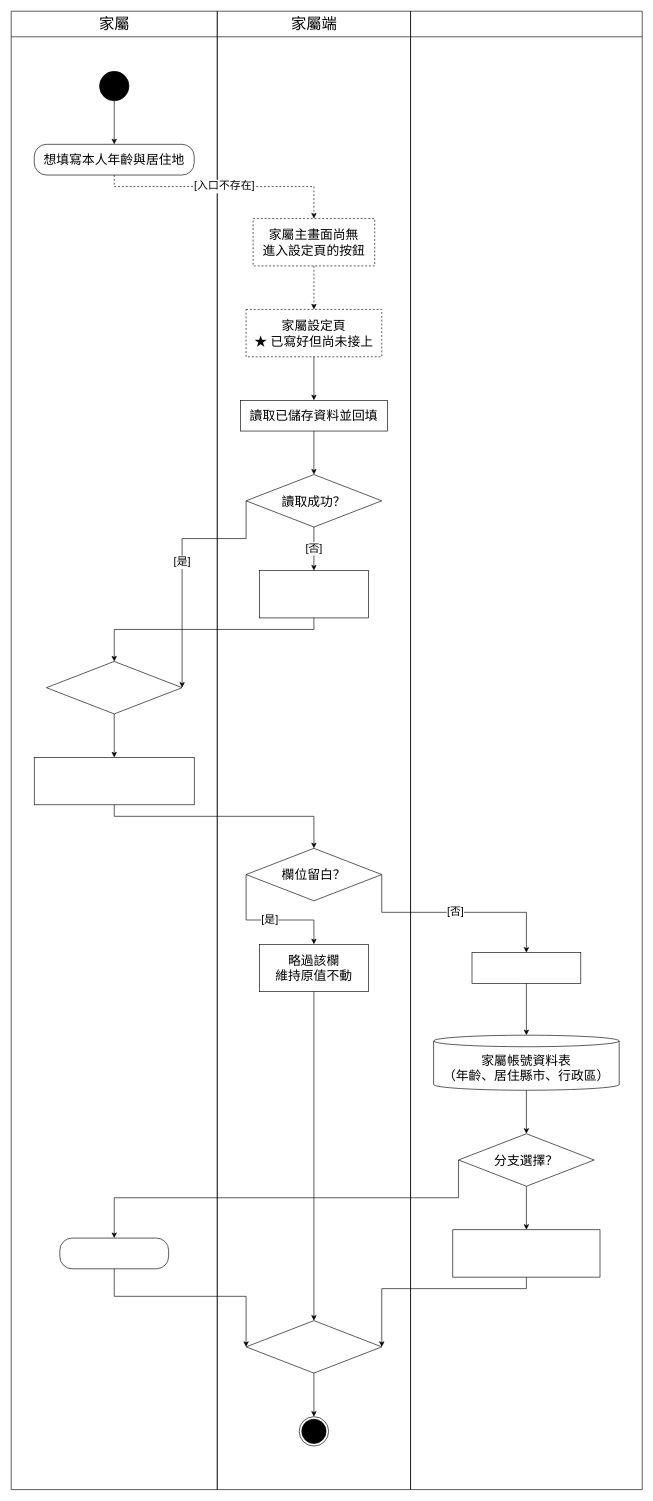
This 653x1501 diagram has some shape labels left out. The shapes that lost their labels are listed below. From the top down, each one's box as (x1, y1, x2, y2) in pixels, then its label:
(259, 570, 368, 618): 欄位維持空白 並記錄錯誤訊息
(410, 11, 642, 1490): uban-api 後端（已完成）
(34, 757, 194, 805): 填寫年齡、縣市、行政區 三欄皆選填
(471, 952, 581, 983): 更新個人資料
(59, 1237, 169, 1269): 資料儲存
(452, 1229, 600, 1277): 年齡與居住地分布統計 （開發者管理端）
